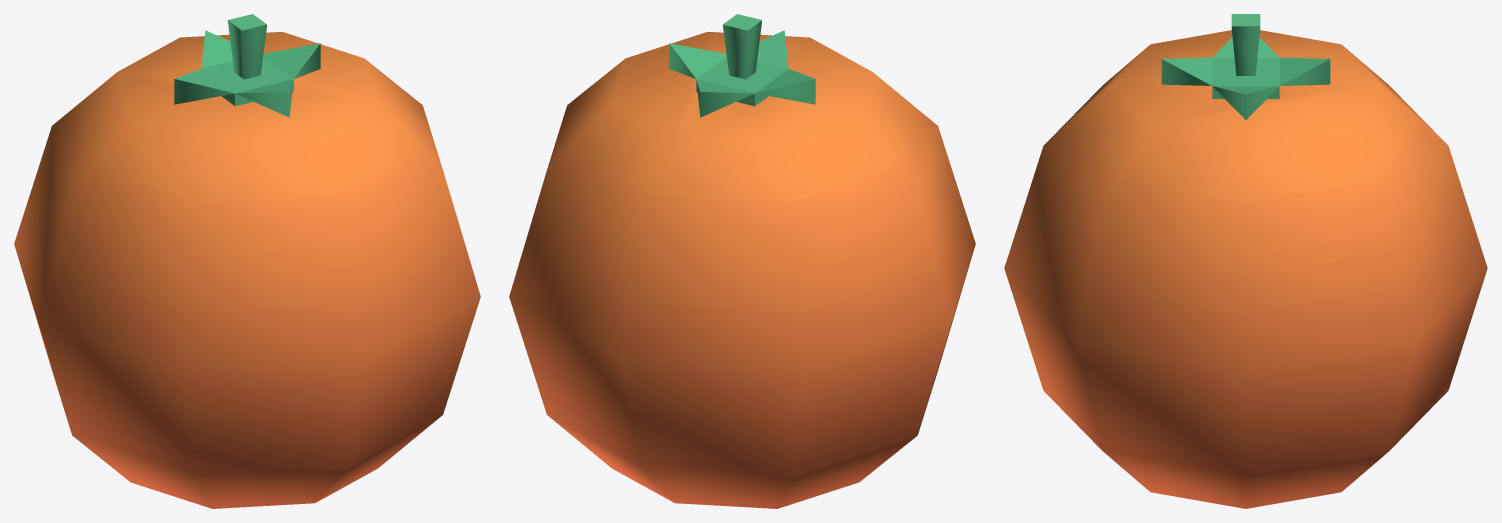
File: orange-harvest.glb
The picture shows the model from 3 angles, left to right: view 1: azimuth 30°, elevation 25°; view 2: azimuth 150°, elevation 25°; view 3: azimuth 270°, elevation 25°; orthographic projection.
Visible parts, largest first — view 1: orange; view 2: orange; view 3: orange.
Part boxes in pixels (bbox=[...]): orange: bbox=[14, 14, 480, 508]; orange: bbox=[509, 14, 975, 508]; orange: bbox=[1004, 14, 1487, 508].
Size of the model in its own units: 1 by 0.9854 by 1.
1 material, 1 textured.
